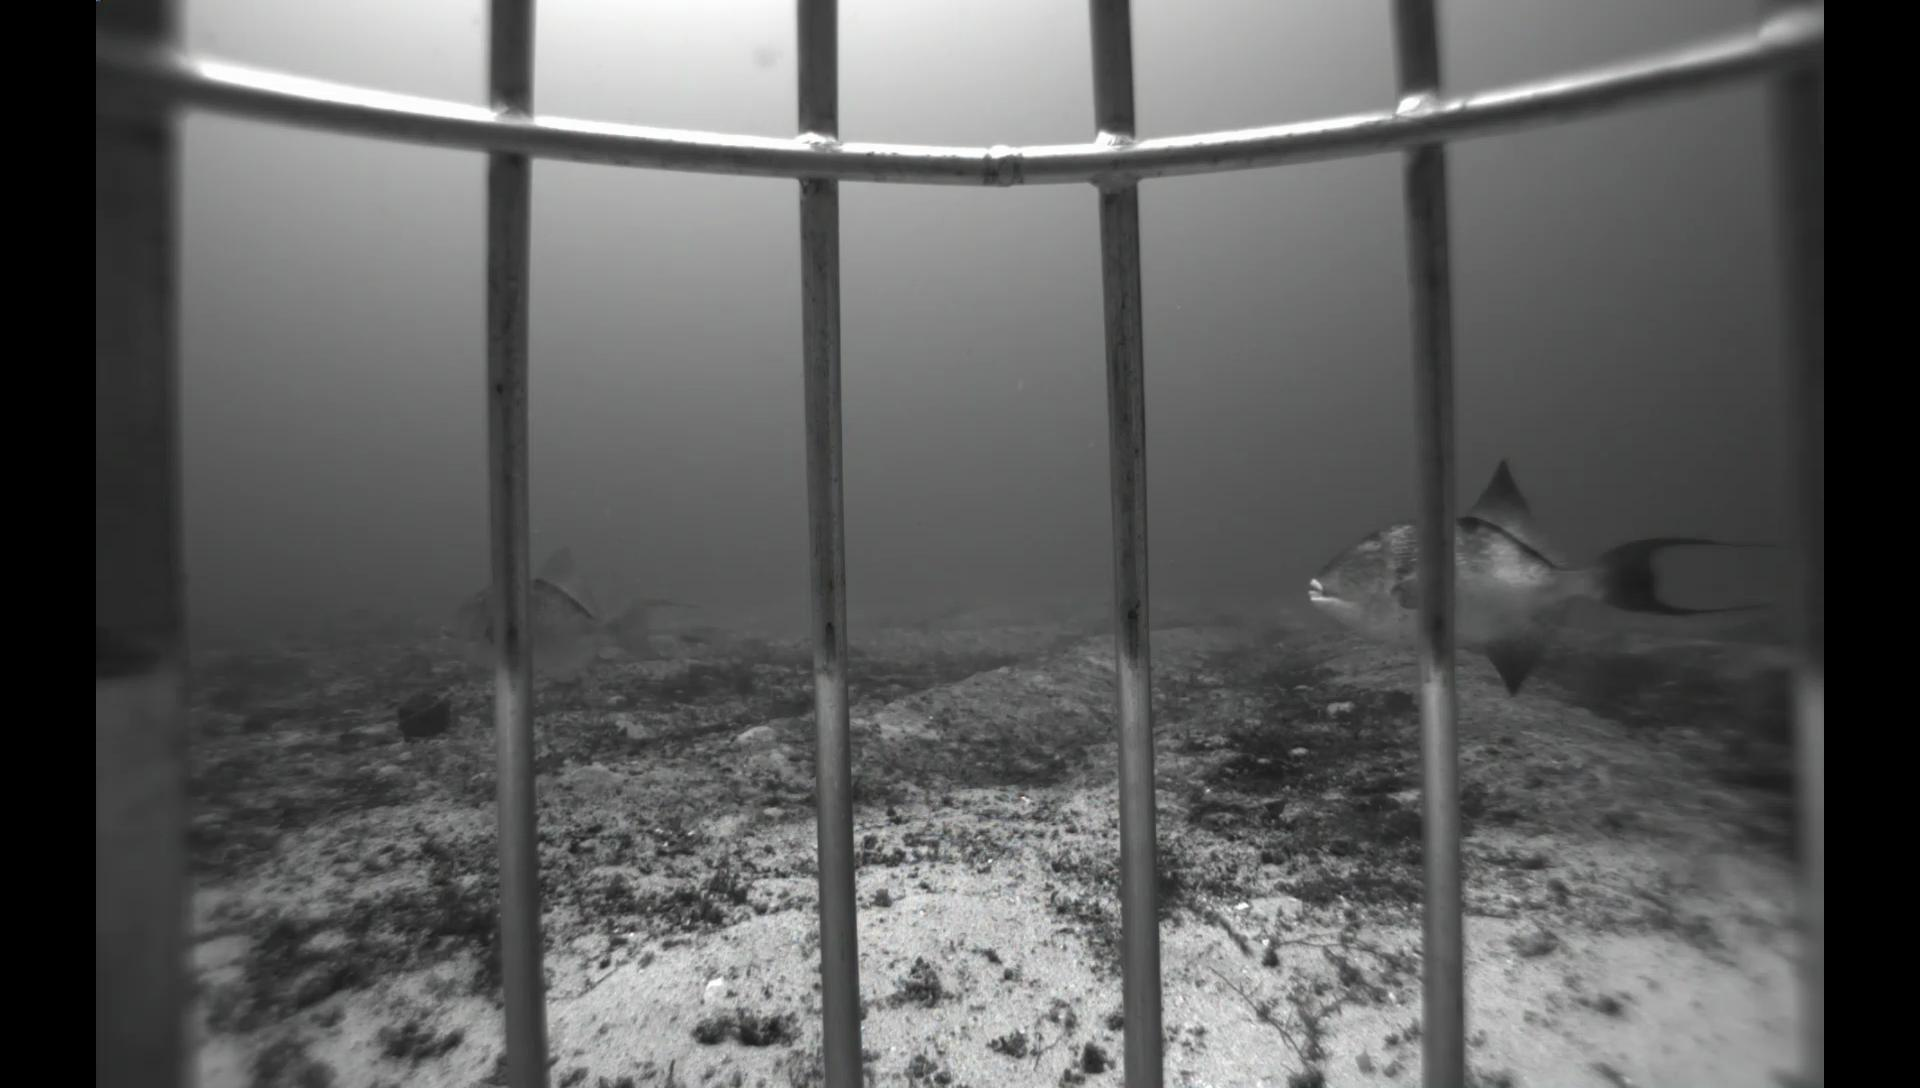BALISTESCAPRISCUS-189030502: (1298, 451, 1797, 706), (433, 535, 711, 694)
